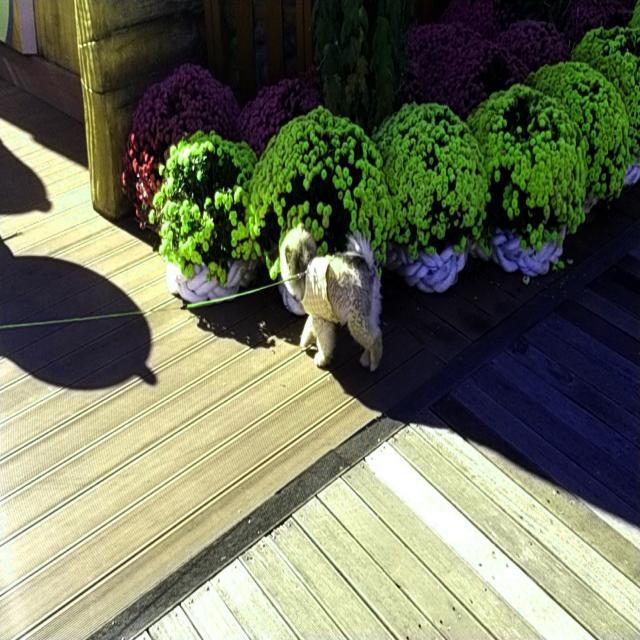Dog: (281, 222, 384, 374)
